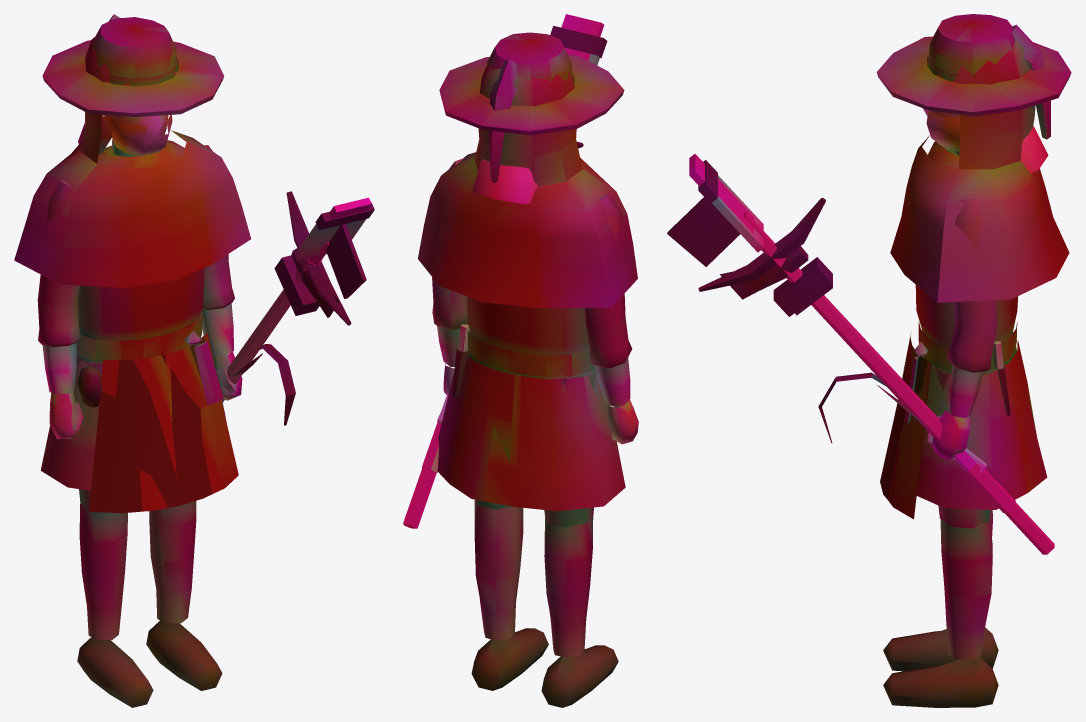
Rendered from peasant.glb.
3 renders of one model, left to right at view 1: azimuth 30°, elevation 25°; view 2: azimuth 150°, elevation 25°; view 3: azimuth 270°, elevation 25°, orthographic. The views are drawn at different scales.
Parts seen in each view (by area): view 1: peasant_LOD0; view 2: peasant_LOD0; view 3: peasant_LOD0.
Part boxes in pixels (x1=…): peasant_LOD0: x1=14, y1=14, x2=374, y2=707; peasant_LOD0: x1=403, y1=14, x2=638, y2=707; peasant_LOD0: x1=667, y1=14, x2=1071, y2=707.
Size of what is drawn, in the model's own units: 0.3246 by 0.9622 by 0.5315.
